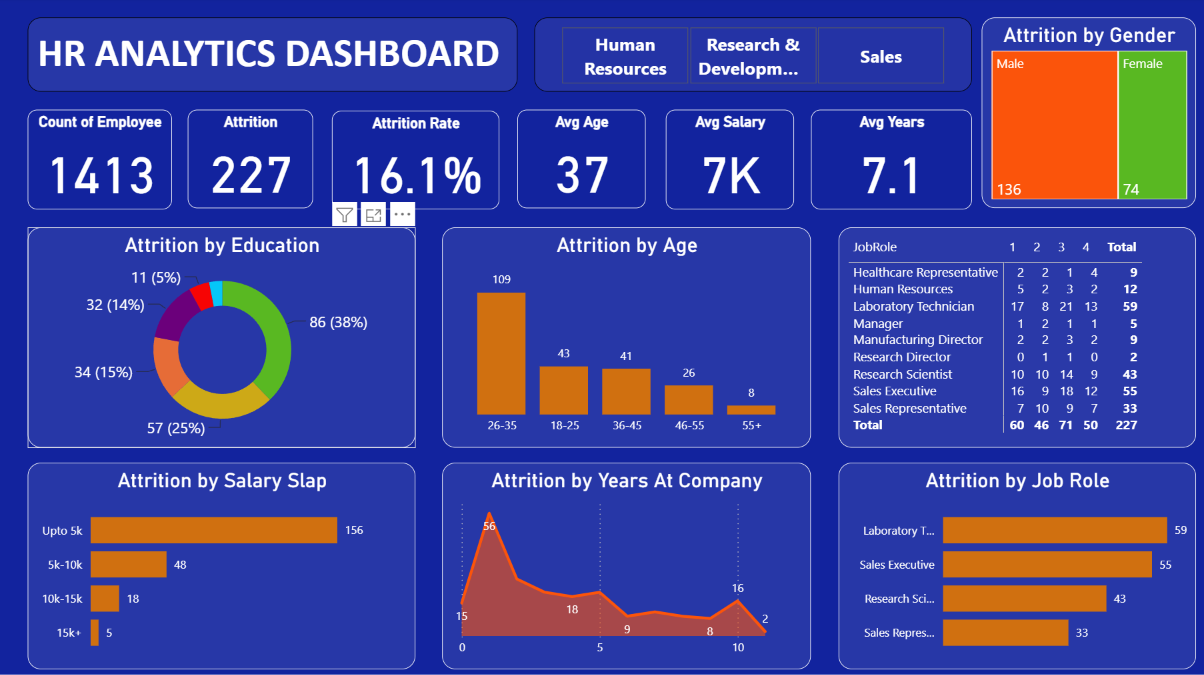

The dashboard page shown, as its layout file describes it:
{"tool":"powerbi","page":{"name":"DashboardHr","canvas":[1280,720],"ordinal":0},"visuals":[{"type":"card","title":"Count of Employee","fields":{"Values":["CountNonNull(HR_Analytics.EmpID)"]},"box":[31.4,119,152.7,105.5],"z":0},{"type":"card","title":"Attrition Rate","fields":{"Values":["HR_Analytics.AttritionRate"]},"box":[353.7,120.1,177.4,104.4],"z":1000},{"type":"card","title":"Avg Age","fields":{"Values":["Avg(HR_Analytics.Age)"]},"box":[550.2,119,135.9,104.4],"z":2000},{"type":"card","title":"Attrition","fields":{"Values":["Sum(HR_Analytics.AttritionCount)"]},"box":[201,119,132.5,104.4],"z":3000},{"type":"card","title":"Avg Salary","fields":{"Values":["Avg(HR_Analytics.MonthlyIncome)"]},"box":[707.4,119,135.9,105.5],"z":4000},{"type":"card","title":"Avg Years","fields":{"Values":["Avg(HR_Analytics.YearsAtCompany)"]},"box":[861.2,119,170.7,105.5],"z":5000},{"type":"donutChart","title":"Attrition by Education","fields":{"Category":["HR_Analytics.EducationField"],"Y":["Sum(HR_Analytics.AttritionCount)"]},"box":[31.4,243.6,410.9,233.5],"z":6000},{"type":"columnChart","title":"Attrition by Age","fields":{"Category":["HR_Analytics.AgeGroup"],"Y":["Sum(HR_Analytics.AttritionCount)"]},"box":[470.5,243.6,390.7,233.5],"z":7000},{"type":"pivotTable","fields":{"Columns":["HR_Analytics.JobSatisfaction"],"Rows":["HR_Analytics.JobRole"],"Values":["Sum(HR_Analytics.AttritionCount)"]},"box":[890.4,243.6,378.4,233.5],"z":8000},{"type":"clusteredBarChart","title":"Attrition by Salary Slap","fields":{"Category":["HR_Analytics.SalarySlab"],"Y":["Sum(HR_Analytics.AttritionCount)"]},"box":[31.4,492.9,410.9,218.9],"z":9000},{"type":"clusteredBarChart","title":"Attrition by Job Role","fields":{"Category":["HR_Analytics.JobRole"],"Y":["Sum(HR_Analytics.AttritionCount)"]},"box":[890.4,492.9,378.4,218.9],"z":10000},{"type":"areaChart","title":"Attrition by Years At Company","fields":{"Category":["HR_Analytics.YearsAtCompany"],"Y":["Sum(HR_Analytics.AttritionCount)"]},"box":[470.5,492.9,390.7,218.9],"z":11000},{"type":"treemap","title":"Attrition by Gender","fields":{"Group":["HR_Analytics.Gender"],"Values":["Sum(HR_Analytics.AttritionCount)"]},"box":[1042,21.3,226.8,202.1],"z":12000},{"type":"slicer","fields":{"Values":["HR_Analytics.Department"]},"box":[568.3,21.5,463.8,78.7],"z":13000},{"type":"textbox","box":[31.4,21.3,518.6,78.6],"z":14000}]}

Visuals, with their boxes in screenshot pixels (x1, y1, x2, y2), scaled from the page's 1280x720 canvas onto the 1204x675 screenshot:
"Count of Employee" card: region(30, 112, 173, 210)
"Attrition Rate" card: region(333, 113, 500, 210)
"Avg Age" card: region(518, 112, 645, 209)
"Attrition" card: region(189, 112, 314, 209)
"Avg Salary" card: region(665, 112, 793, 210)
"Avg Years" card: region(810, 112, 971, 210)
"Attrition by Education" donutChart: region(30, 228, 416, 447)
"Attrition by Age" columnChart: region(443, 228, 810, 447)
pivotTable - HR_Analytics.JobSatisfaction x HR_Analytics.JobRole: region(838, 228, 1193, 447)
"Attrition by Salary Slap" clusteredBarChart: region(30, 462, 416, 667)
"Attrition by Job Role" clusteredBarChart: region(838, 462, 1193, 667)
"Attrition by Years At Company" areaChart: region(443, 462, 810, 667)
"Attrition by Gender" treemap: region(980, 20, 1193, 209)
slicer - HR_Analytics.Department: region(535, 20, 971, 94)
textbox: region(30, 20, 517, 94)
